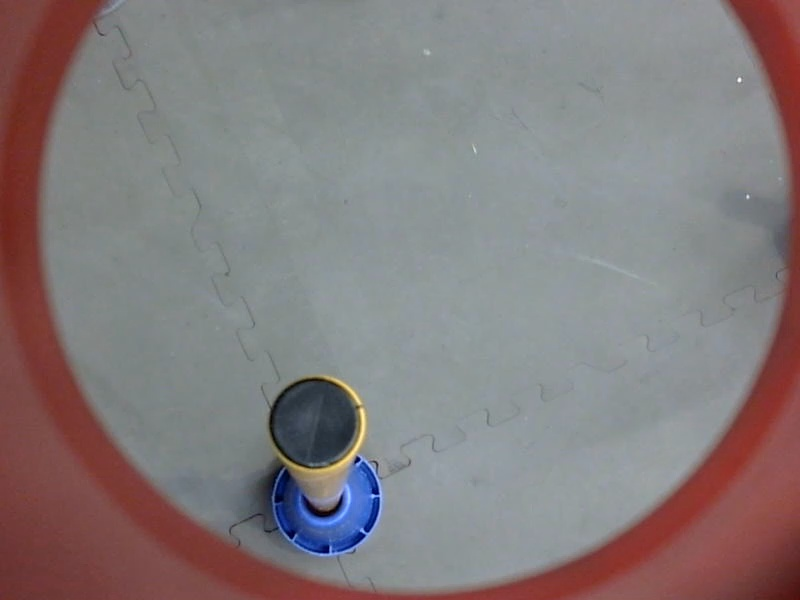tip: (261, 371, 369, 475)
